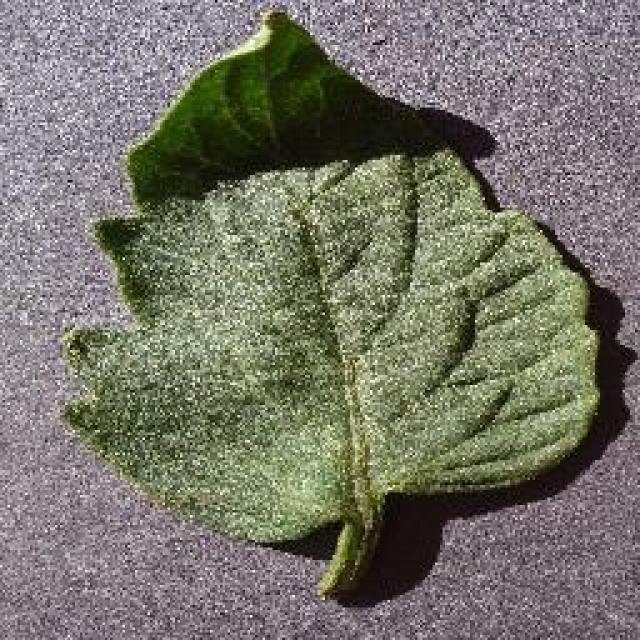Tomato healthy leaf: (62, 14, 602, 591)
